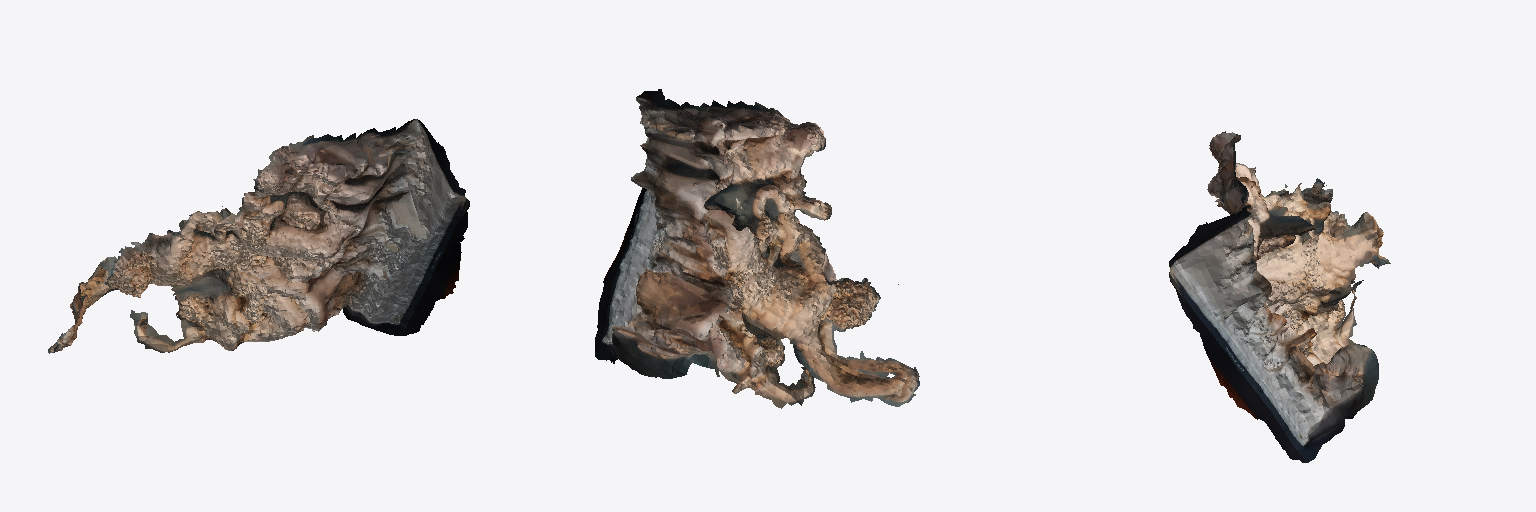
3 views of the same model, side by side, from view 1: azimuth 30°, elevation 25°; view 2: azimuth 150°, elevation 25°; view 3: azimuth 270°, elevation 25° (orthographic).
Bounding box in the file's own units: 65.35 × 45.62 × 35.56.
1 materials, 1 textured.